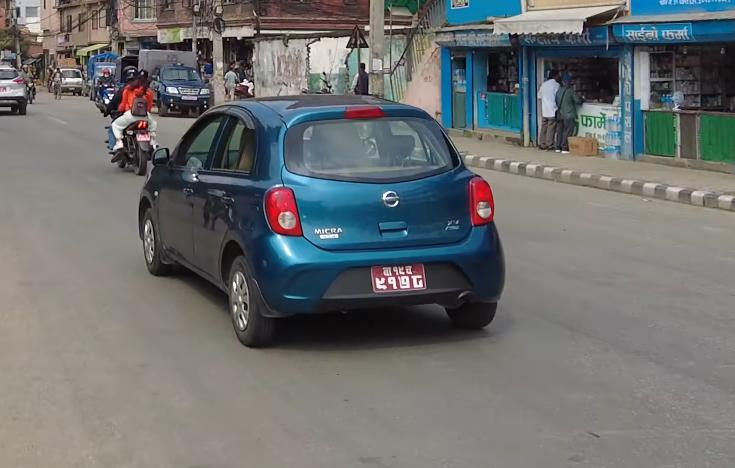bike: (102, 103, 161, 176)
car: (136, 91, 510, 352), (0, 63, 30, 121)
police_vehicle: (132, 49, 211, 116)
